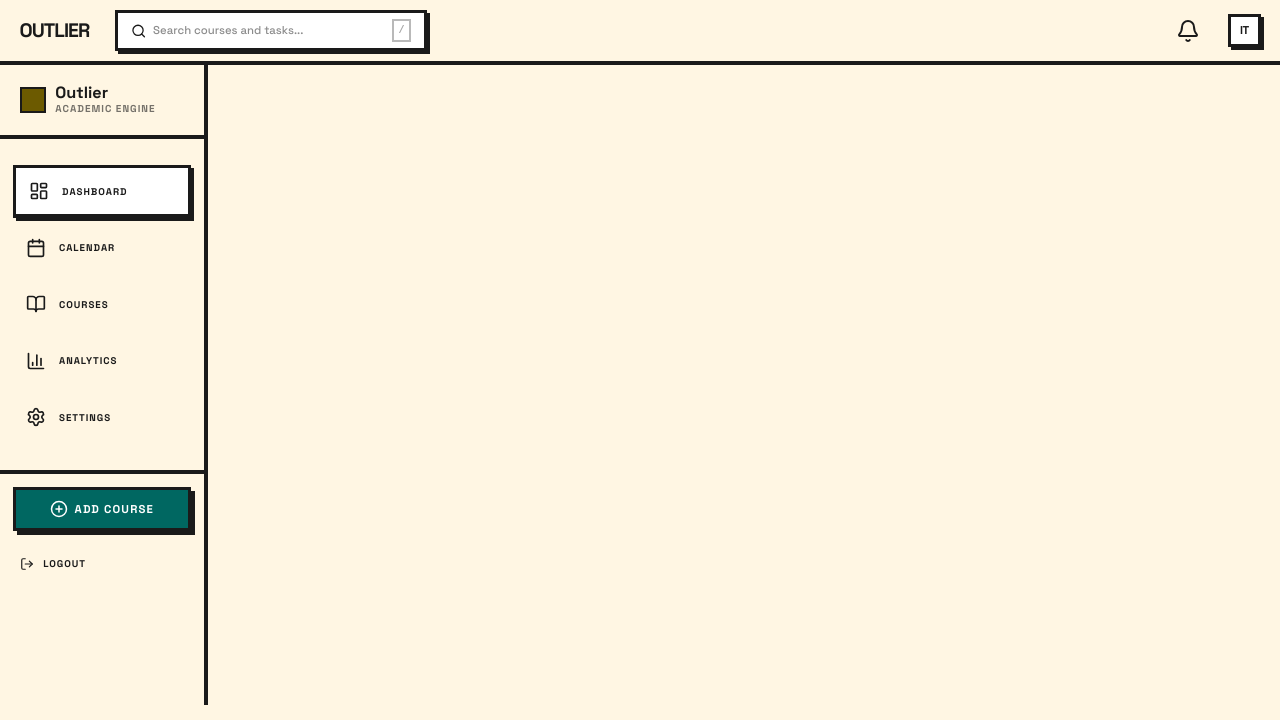
Test case: Layout — initials avatar › links to /settings — clicking the avatar navigates there
What coordinates should you click on to do the following:
click the link with aria-label "Account settings"
I would click on:
 (1244, 31)
Its box is [1228,14,1260,47].
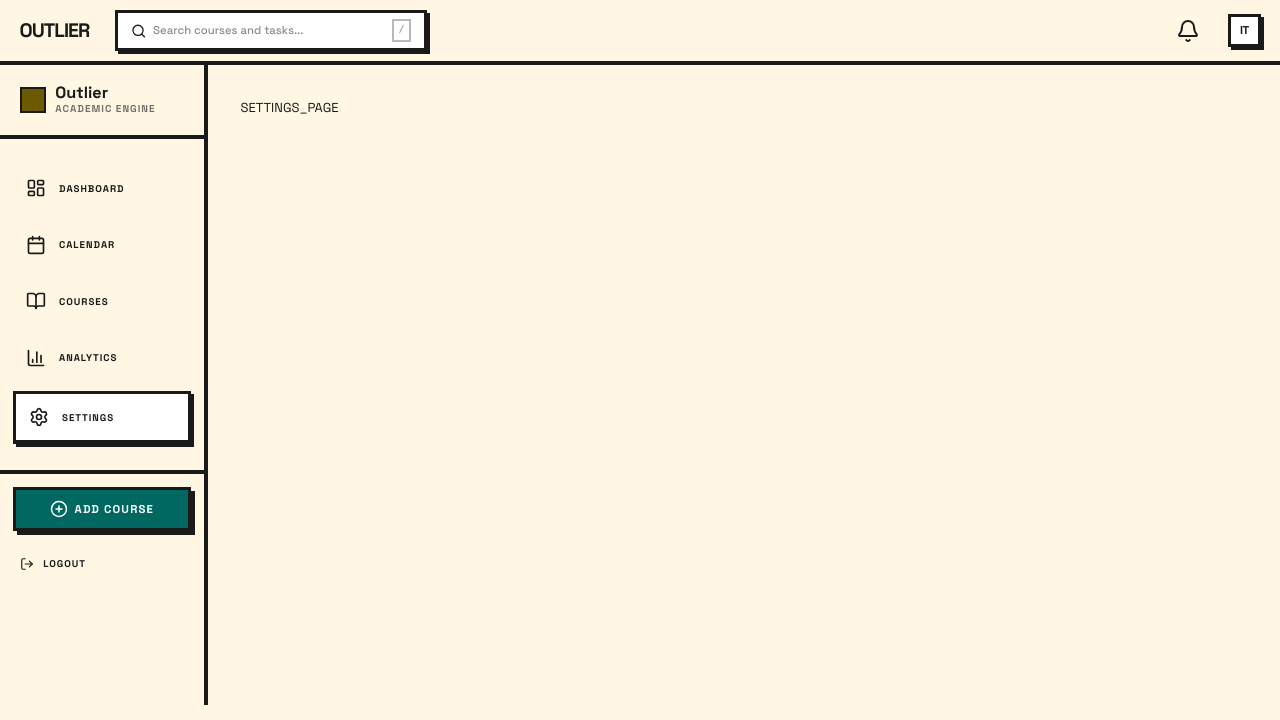
Result: the text "SETTINGS_PAGE" is shown at [240,98,338,116]
